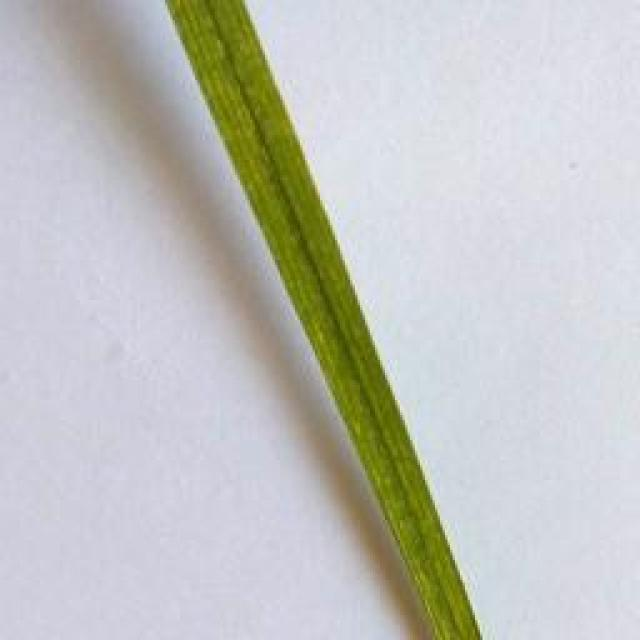Healthy-Plant: (164, 0, 480, 640)
